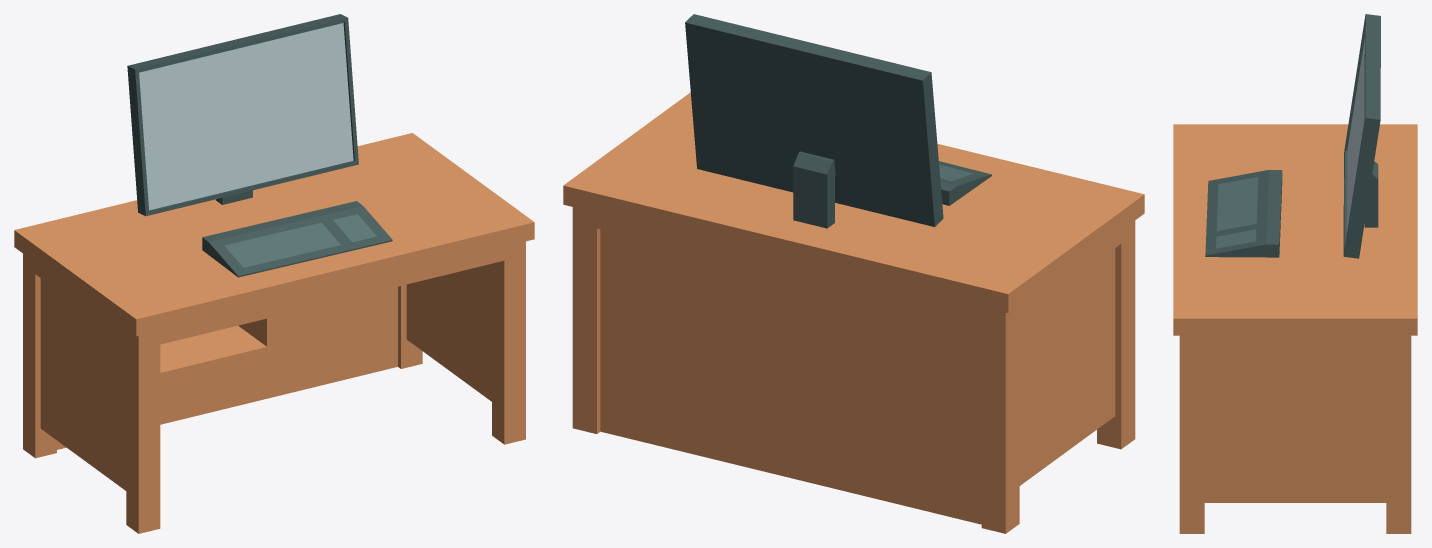
The model's file is deskComputer.glb.
The picture shows the model from 3 angles, left to right: view 1: azimuth 30°, elevation 25°; view 2: azimuth 150°, elevation 25°; view 3: azimuth 270°, elevation 25°; orthographic projection. The views are drawn at different scales.
Visible parts, largest first — view 1: deskComputer; view 2: deskComputer; view 3: deskComputer.
Boxes of the visible parts, box(x1,y1,x2,y2) form: deskComputer: box(14, 14, 534, 533); deskComputer: box(563, 14, 1144, 533); deskComputer: box(1173, 14, 1417, 533).
Size of the model in its own units: 1.48 by 1.33 by 0.7855.
